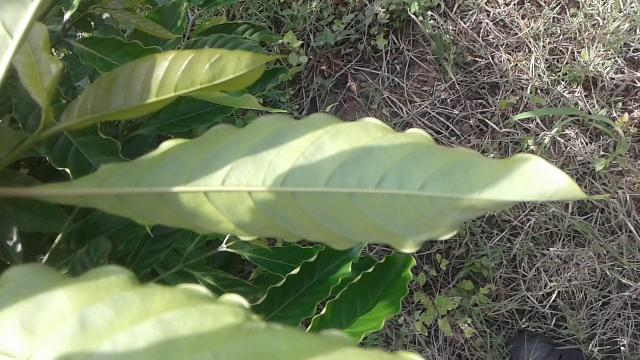healthy: (26, 111, 623, 258)
